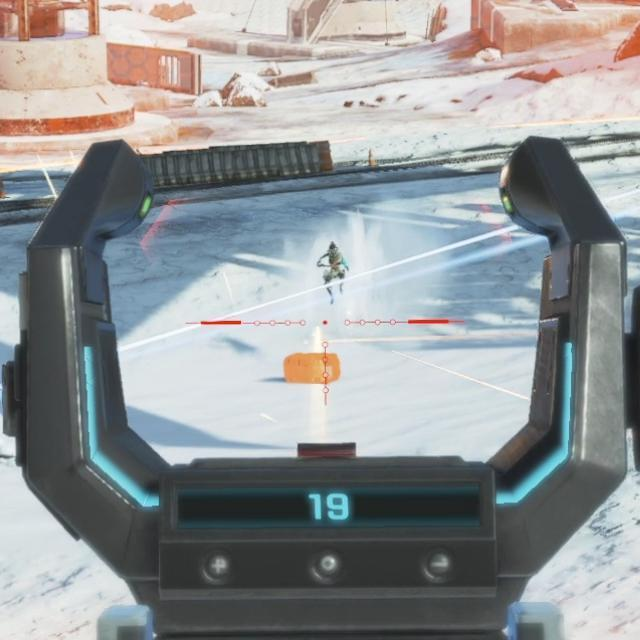avatar: (319, 239, 349, 306)
